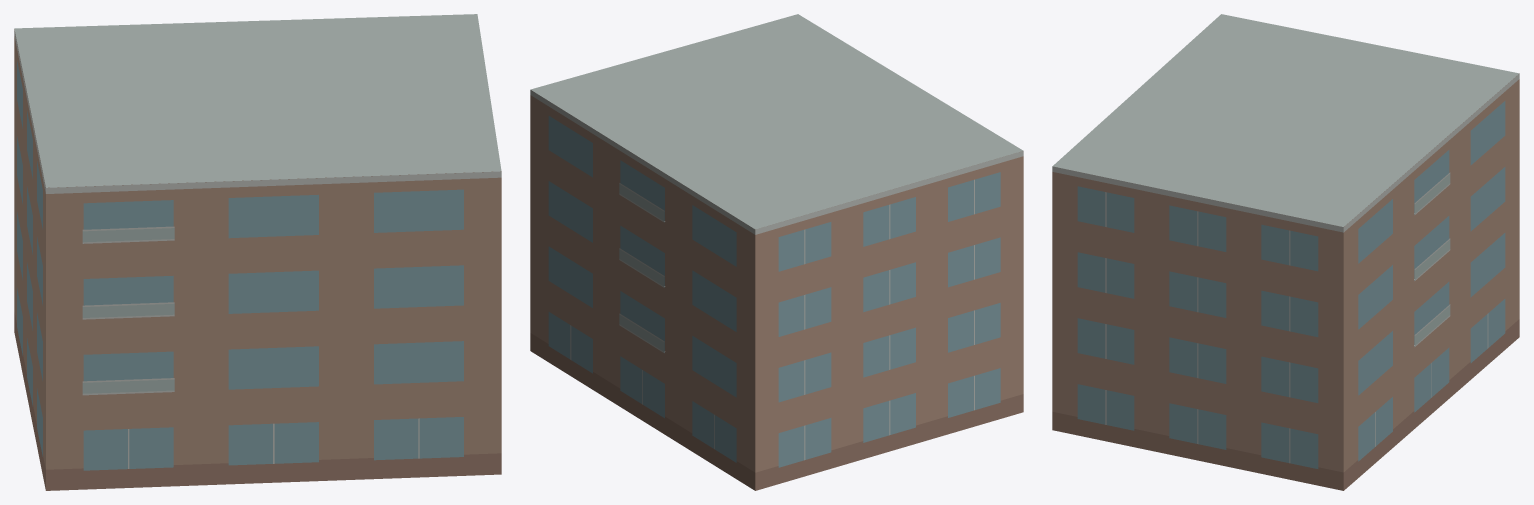
The model's file is survey-upis-32888323.glb.
3 renders of one model, left to right at view 1: azimuth 30°, elevation 25°; view 2: azimuth 150°, elevation 25°; view 3: azimuth 270°, elevation 25°, orthographic. The views are drawn at different scales.
Visible parts, largest first — view 1: survey-upis-32888323.tmp; view 2: survey-upis-32888323.tmp; view 3: survey-upis-32888323.tmp.
Boxes of the visible parts, bbox=[...] form: survey-upis-32888323.tmp: bbox=[14, 14, 501, 490]; survey-upis-32888323.tmp: bbox=[530, 14, 1023, 490]; survey-upis-32888323.tmp: bbox=[1052, 14, 1519, 490].
Size of the model in its own units: 20.46 by 11.8 by 18.95.
